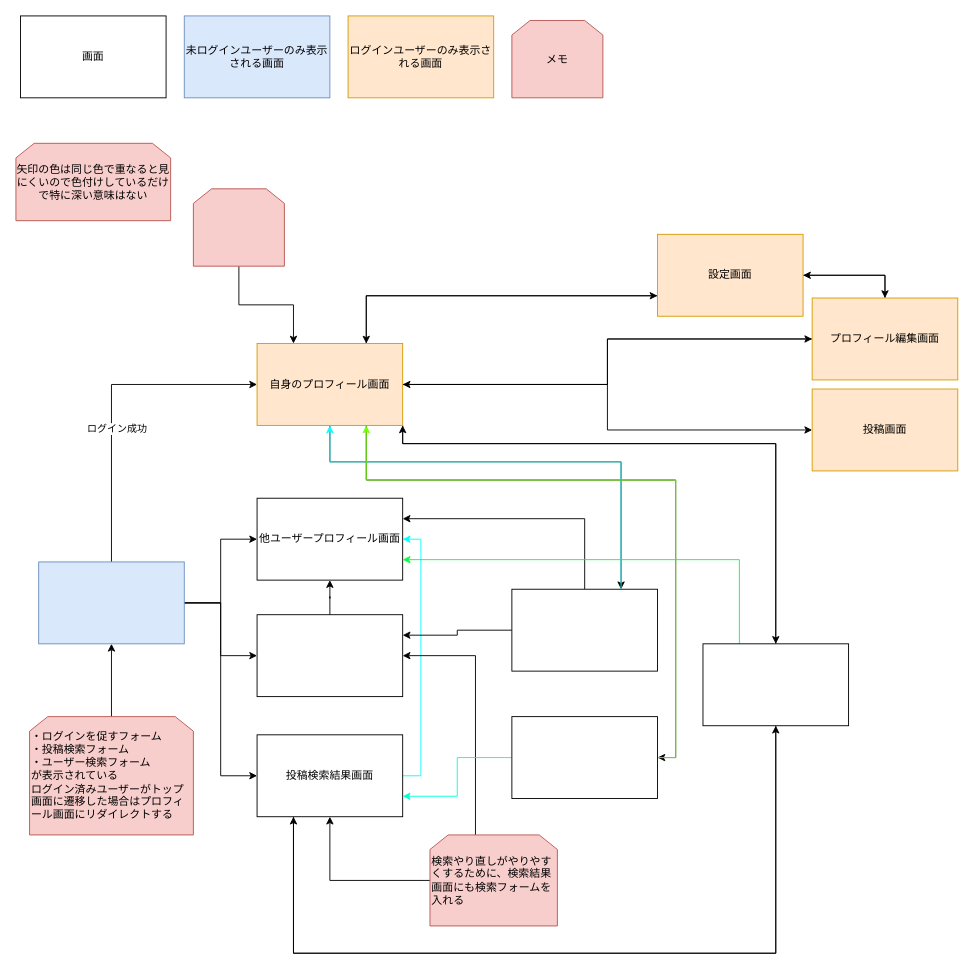
Some shapes in this 974 by 976 pixel diagram are drawn without their labels. The centre of each missing label's shape, as x and y in pixels:
トップ画面: pixel 111 602
ユーザー検索画面: pixel 584 629
ユーザー検索結果画面: pixel 329 655
投稿一覧も表示されている: pixel 238 227
投稿検索画面: pixel 584 757
投稿詳細画面: pixel 775 684
